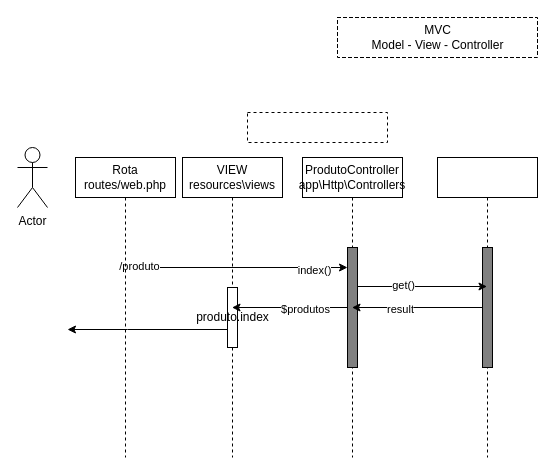
Image size: 555x475. Some labels were removed from this diagram. The shapes that lost their labels are listed below. From the top down, each one's box as (x1, y1, x2, y2) in pixels, then its label:
(246, 112, 388, 142): Listar
(436, 156, 538, 458): Produto app\Models
